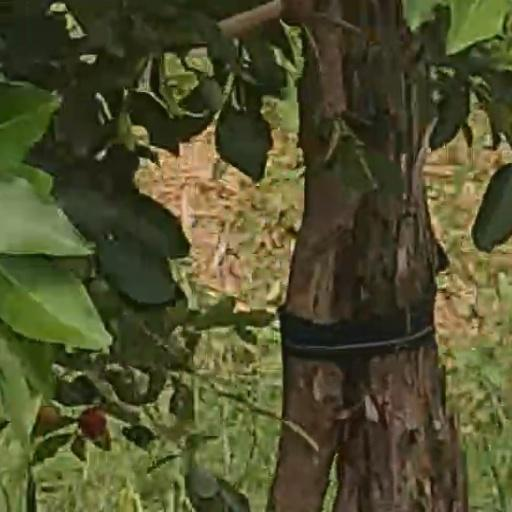acerola_vermelha: (80, 409, 107, 439)
